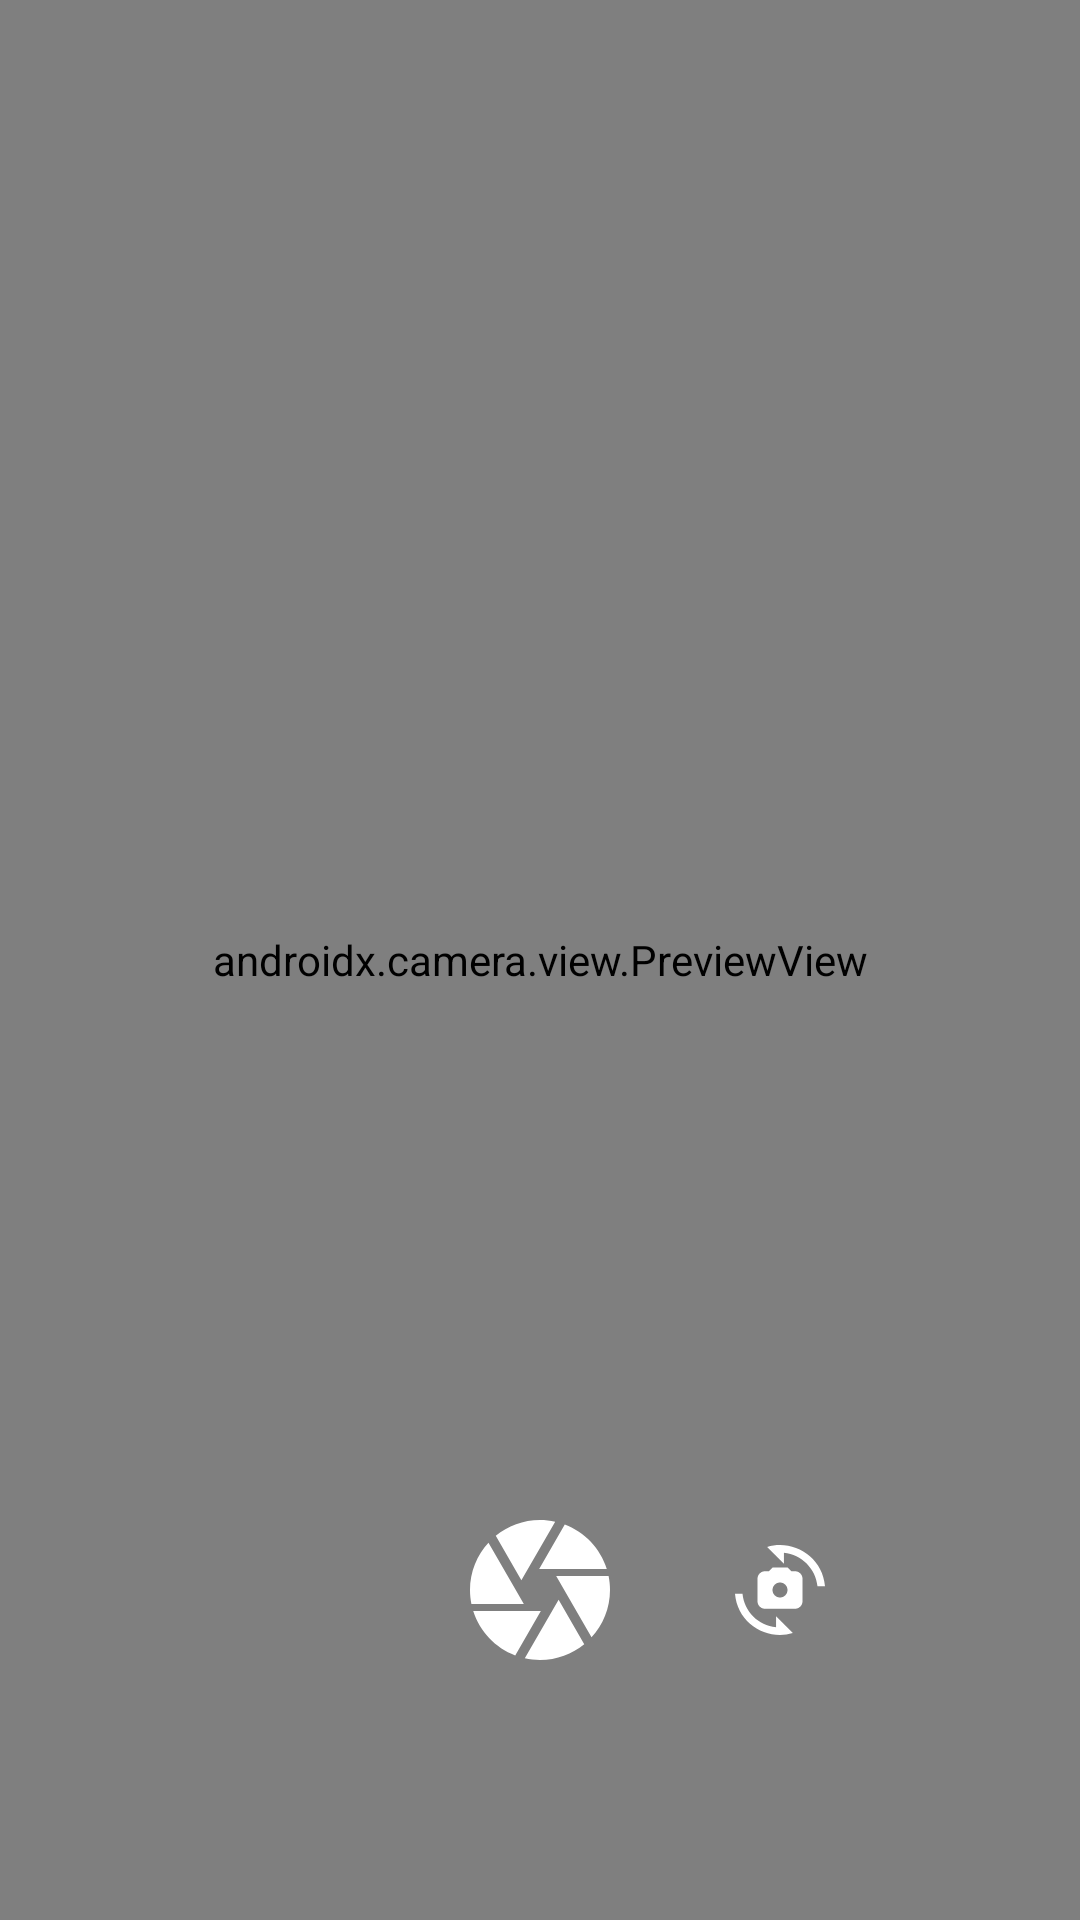

Locate icon controls on the screen. Image size 1080px x 1920px, boxes as [left=x1, top=y1, right=x2, bottom=y2].
cameraswitch: [left=735, top=1545, right=825, bottom=1635]
